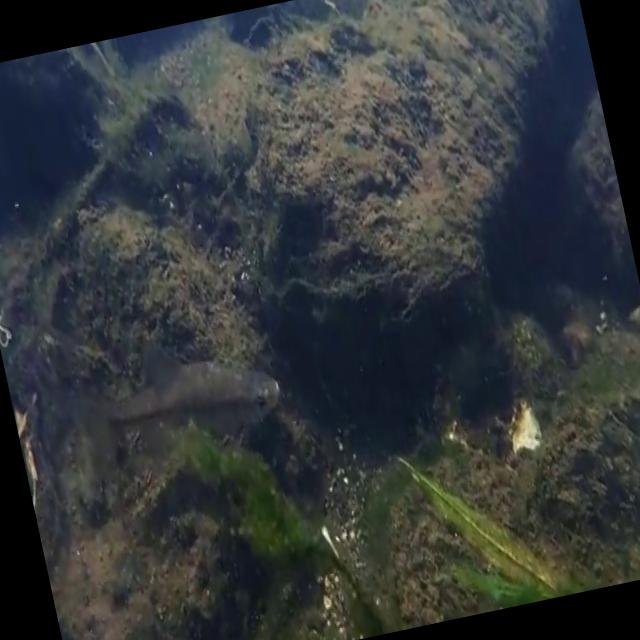Cakil Baligi: (74, 322, 293, 473)
